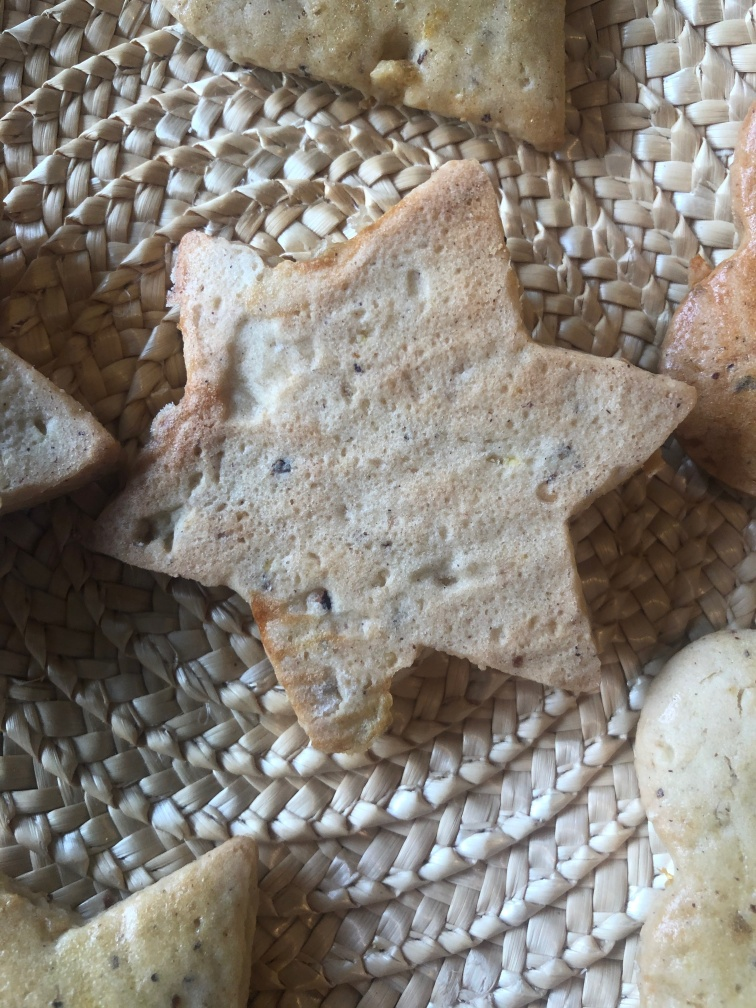star: (93, 151, 736, 699)
